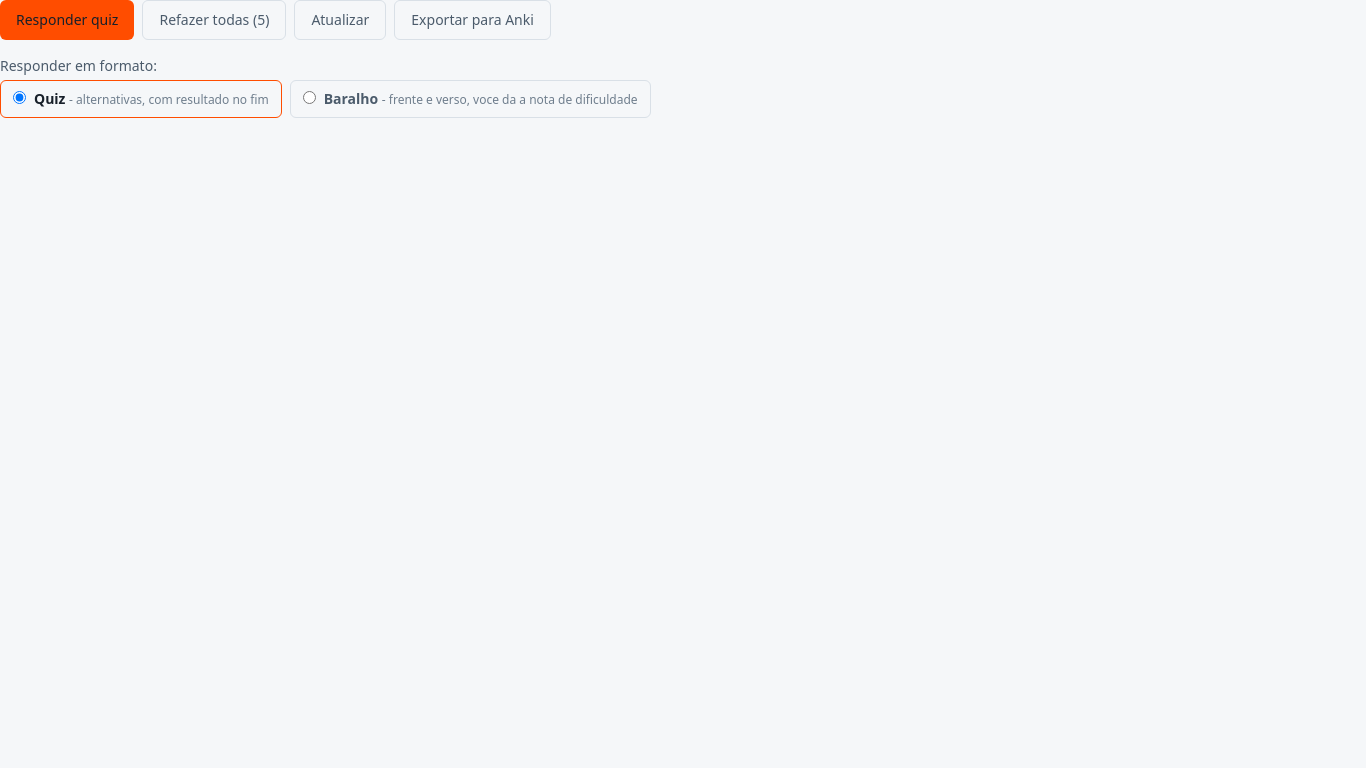
Test: CourseQuiz format › opens a flip-card deck when the Baralho format is chosen
Click the radio button labelled "Baralho - frente e verso, voce da a nota de dificuldade".
click(309, 98)  # box x1=303 y1=91 x2=316 y2=104
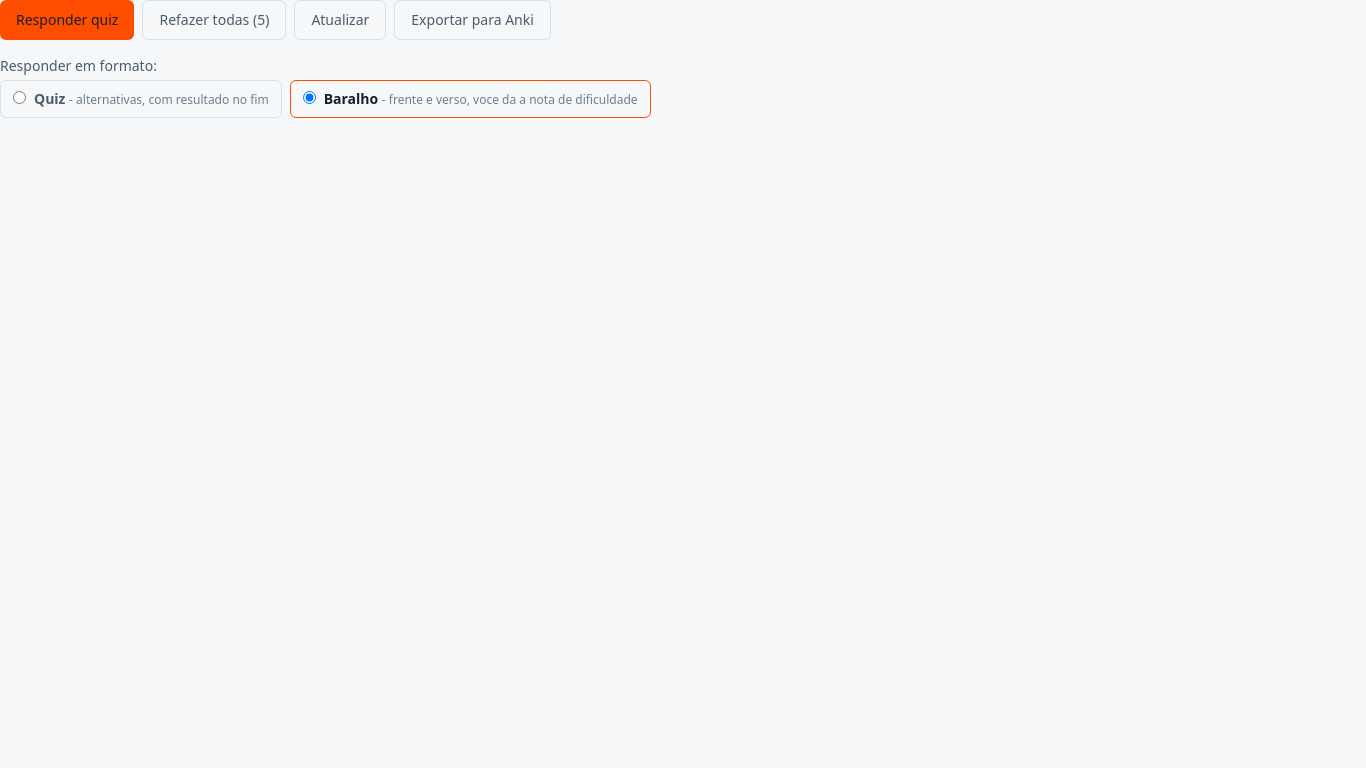
Click the button "Refazer todas (5)".
click(214, 20)  # box x1=142 y1=0 x2=286 y2=40
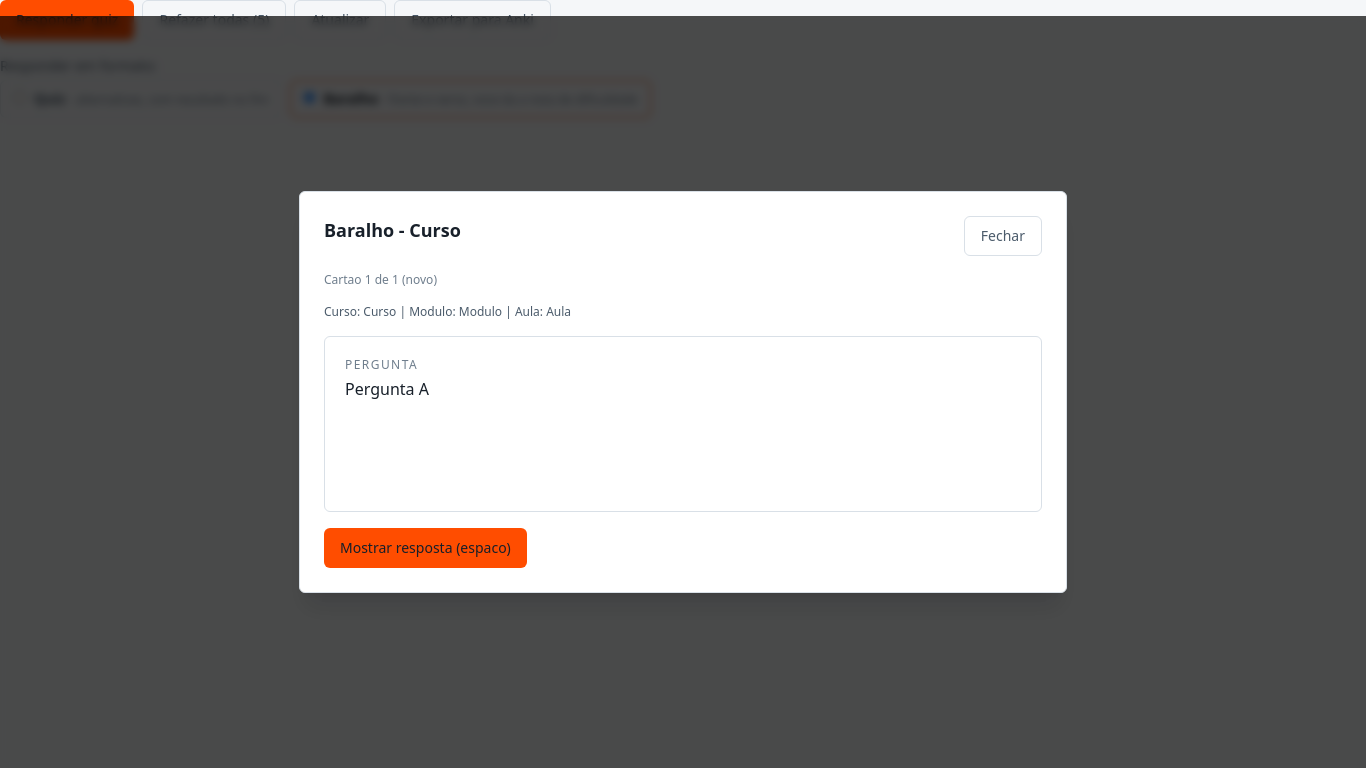
Expected: the text "Resposta A" is not shown
Expected: the text "Pergunta A" is shown, x1=345 y1=378 x2=429 y2=400
Click the button "Mostrar resposta (espaco)".
click(425, 548)  # box x1=324 y1=528 x2=527 y2=568
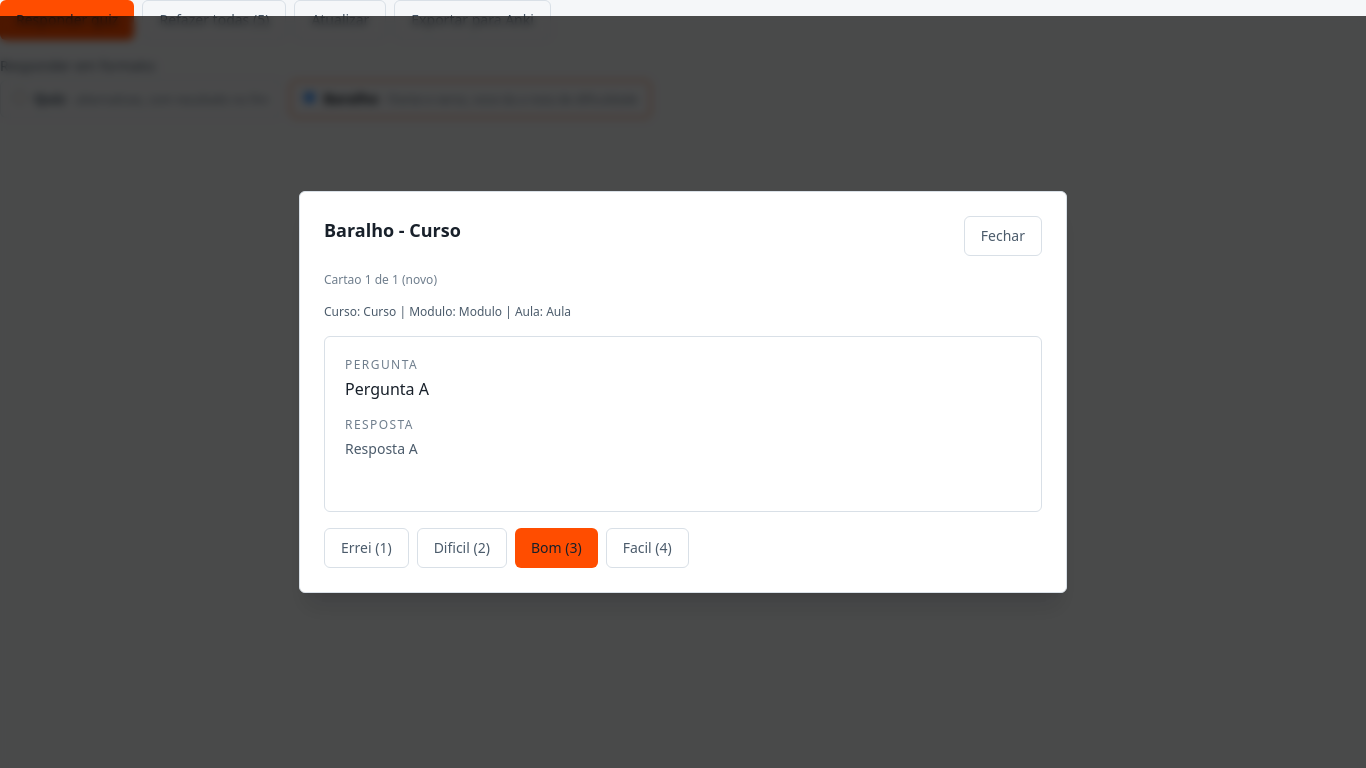
Expected: the text "Resposta A" is shown, x1=345 y1=439 x2=418 y2=458
Expected: the button "Dificil (2)" is shown, x1=417 y1=528 x2=507 y2=568
